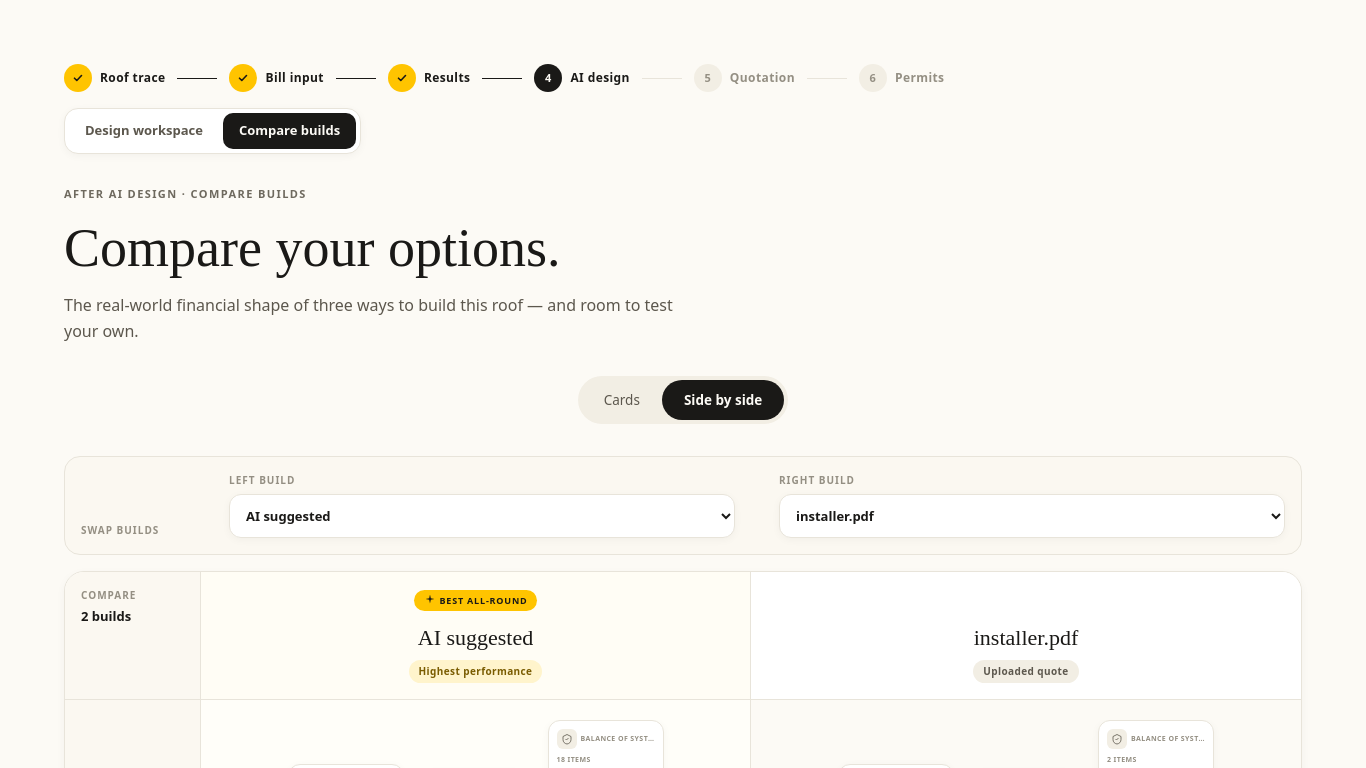
Test case: ComparePage › opens the audit review modal from the quote card
This screenshot has width=1366, height=768.
Click the tab "Cards": (622, 400) [582,380,662,420]
(page scrolled)
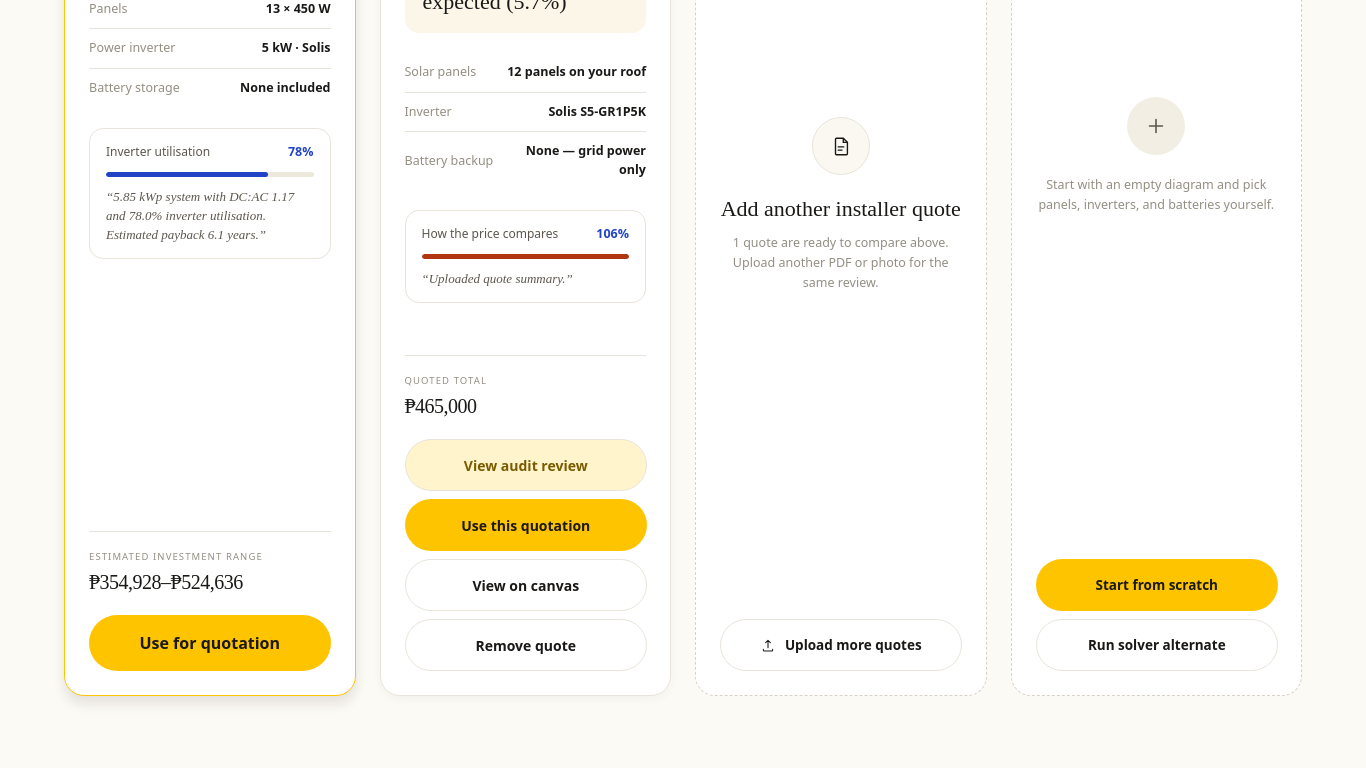
Click the button "View audit review": (525, 465) [404,439,646,491]
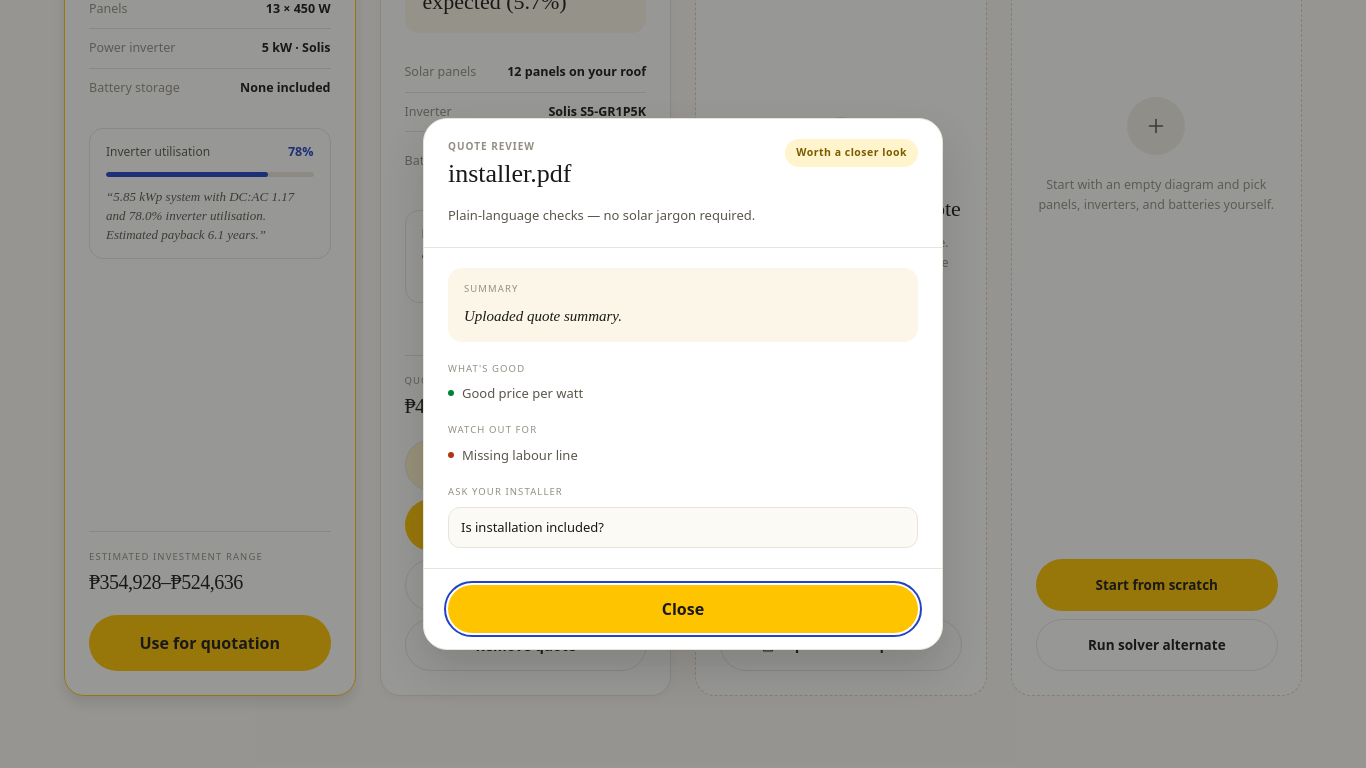
Check: the dialog "installer.pdf" is shown
Check: the text "What's good" is shown, box [448,362,525,375]
Check: the text "Watch out for" is shown, box [448,423,537,436]
